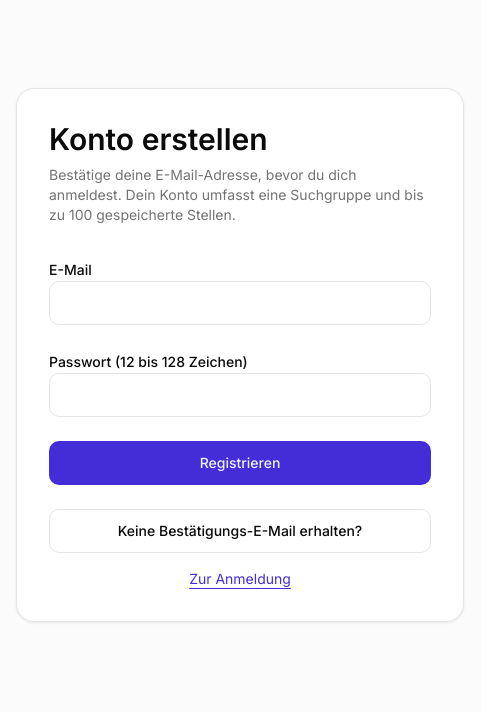
Test: prüft Registrierung, zeigt Versandstatus und leert das Passwort
In the field labelled "E-Mail": {"x": 240, "y": 303} [49, 281, 431, 325], type "USER@example.test"
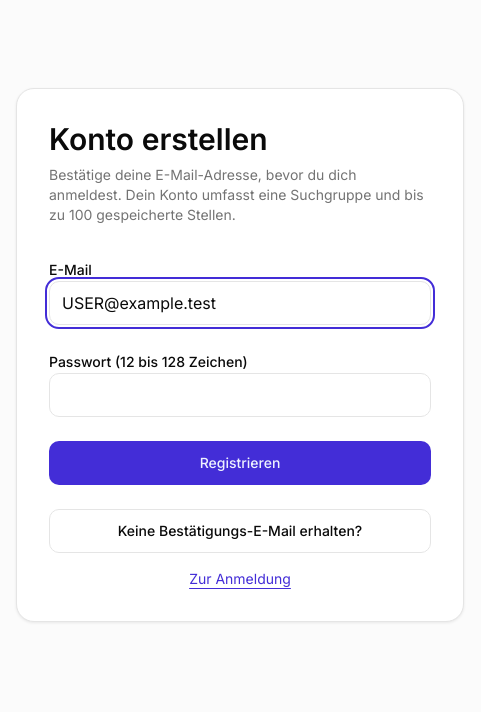
In the password field labelled "Passwort (12 bis 128 Zeichen)": {"x": 240, "y": 395} [49, 373, 431, 417], type "Test-Passwort-2026"
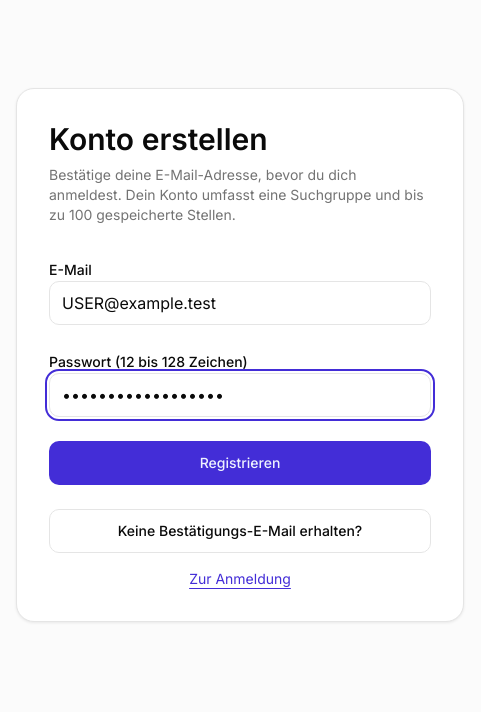
Click the button "Registrieren": {"x": 240, "y": 463} [49, 441, 431, 485]
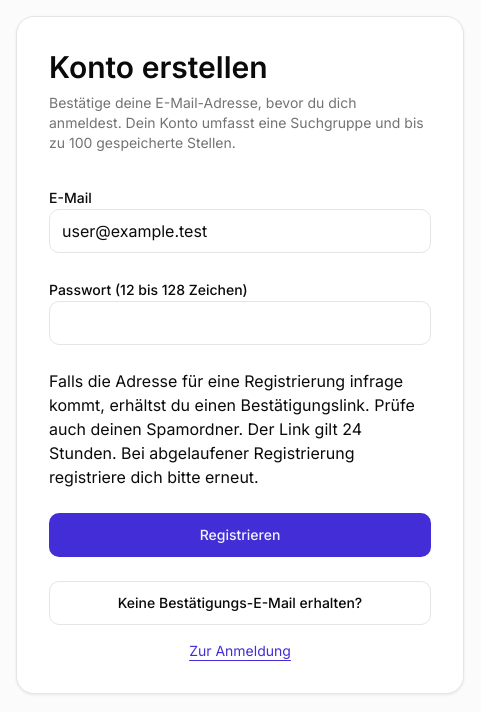
Check: the message shows "Bestätigungslink", box [49, 371, 415, 487]
Check: the password field labelled "Passwort (12 bis 128 Zeichen)" is empty, box [49, 301, 431, 345]
